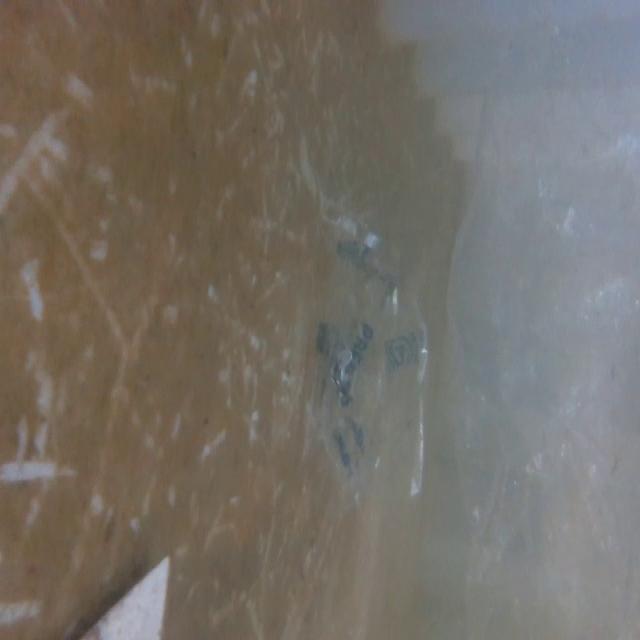metal: (56, 544, 179, 640)
plastic bags: (453, 2, 640, 640), (301, 230, 430, 500)
